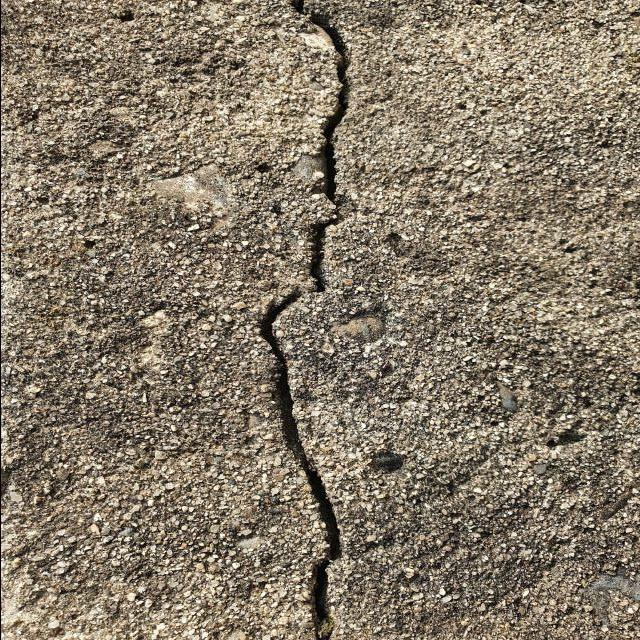SurfaceCrack: (222, 0, 396, 640)
